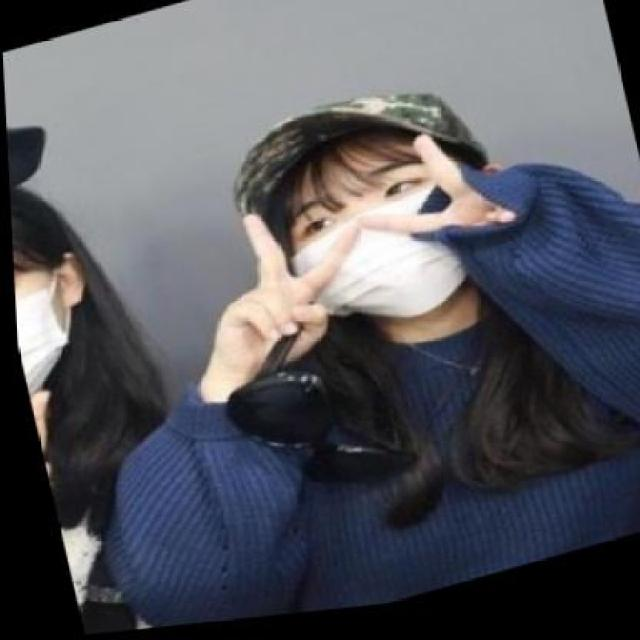hat: (208, 71, 488, 242)
